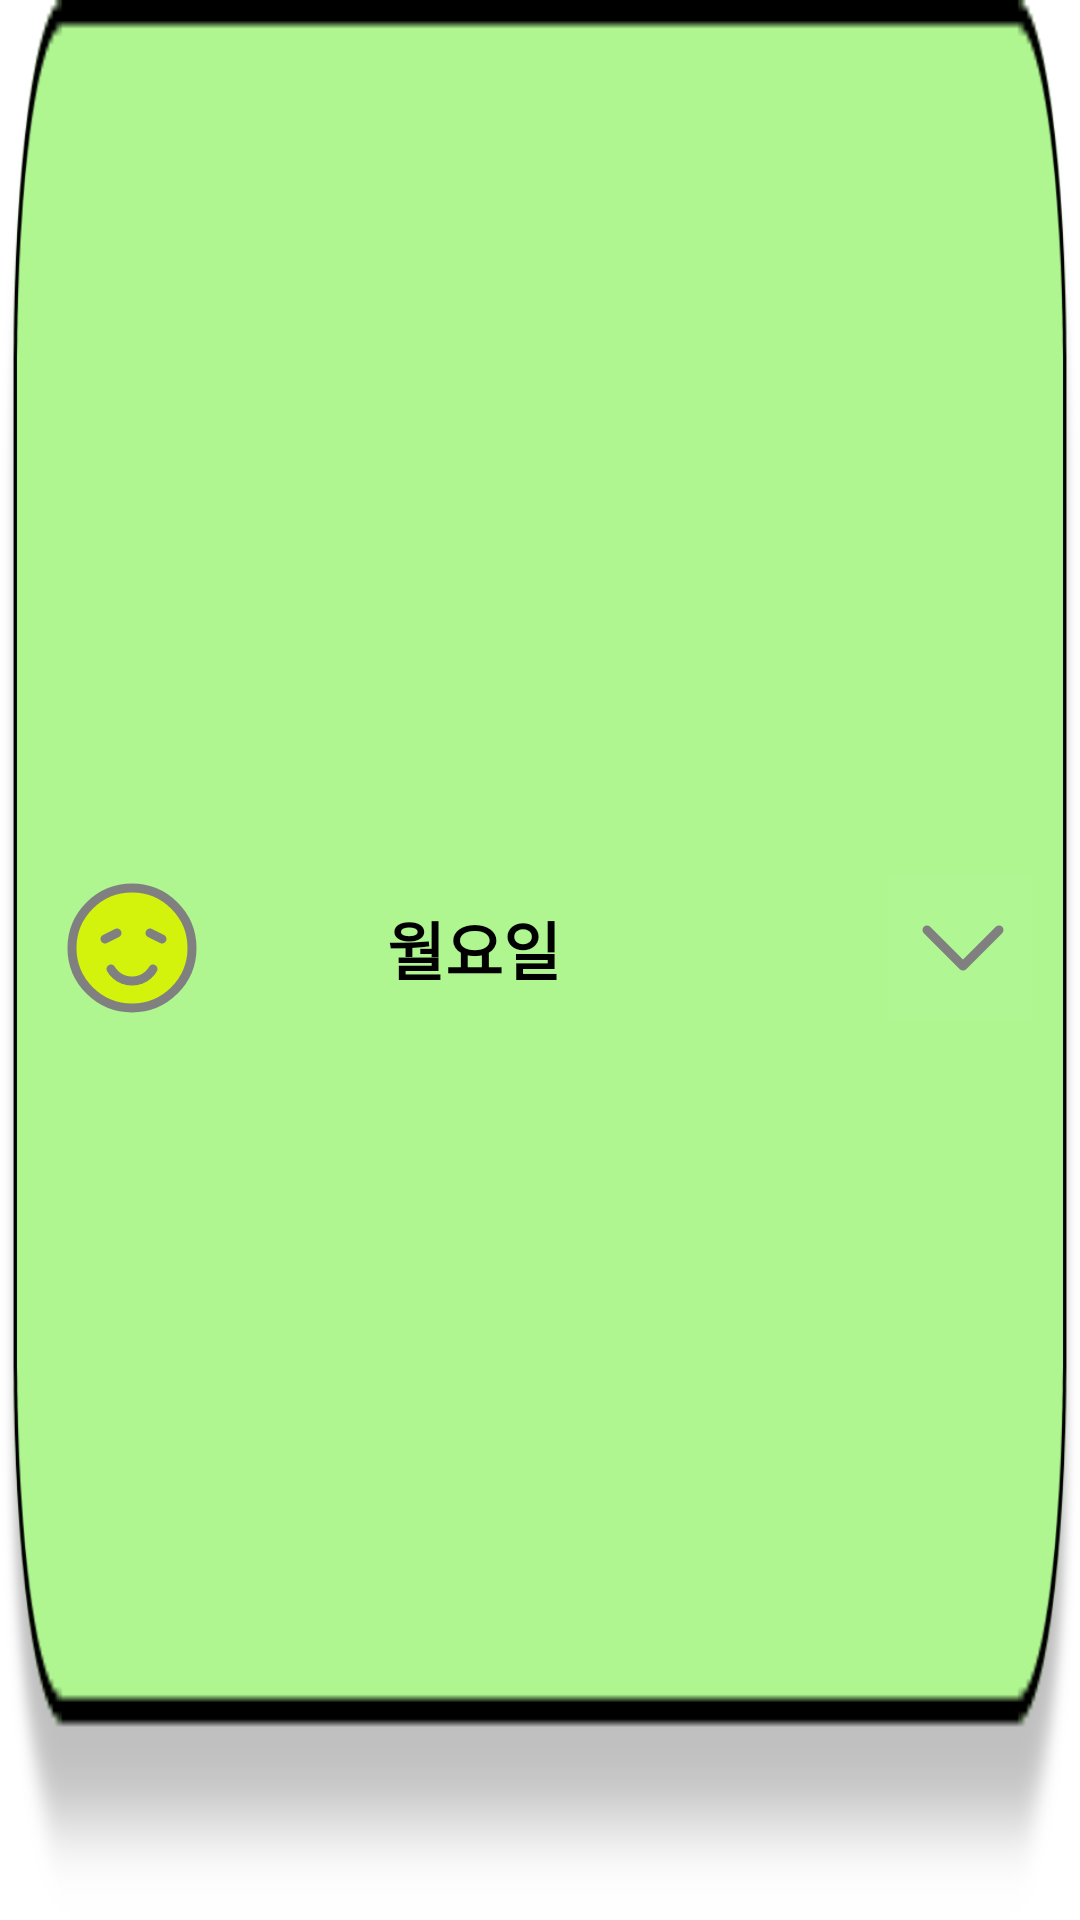

Icon bounding boxes for this 1080px x 1920px phone screenshot, format (x1, y1, x2, y2):
lower: (922, 925, 1004, 971)
